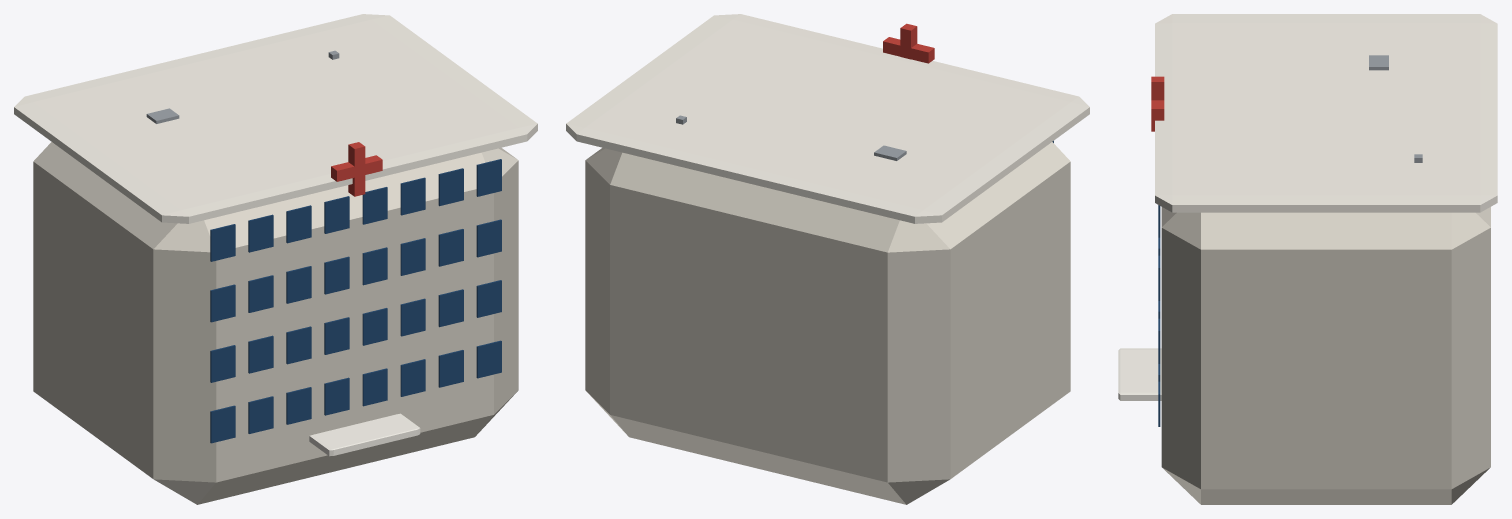
Rendered from hospital.glb.
The picture shows the model from 3 angles, left to right: view 1: azimuth 30°, elevation 25°; view 2: azimuth 150°, elevation 25°; view 3: azimuth 270°, elevation 25°; orthographic projection. The views are drawn at different scales.
Visible parts, largest first — view 1: walls, cornice, canopy, win.002, win.004, win.014, win.017, win.020, win.021, win.023, win.024, win.027 (+25 smaller); view 2: walls, cornice, crossh; view 3: walls, cornice, canopy.
Boxes of the visible parts, x1,y1,x2,y2 form: walls: [33, 142, 518, 504]; cornice: [14, 14, 537, 223]; canopy: [309, 413, 420, 456]; win.002: [286, 387, 311, 424]; win.004: [362, 368, 387, 406]; win.014: [438, 289, 463, 327]; win.017: [248, 275, 273, 312]; win.020: [362, 247, 387, 285]; win.021: [400, 238, 425, 275]; win.023: [476, 219, 501, 257]; win.024: [210, 224, 235, 261]; win.027: [324, 196, 349, 233]; walls: [585, 142, 1070, 504]; cornice: [566, 14, 1089, 223]; crossh: [883, 37, 934, 63]; walls: [1161, 207, 1490, 504]; cornice: [1155, 14, 1497, 212]; canopy: [1118, 348, 1161, 400].
Bounding box in the file's own units: 24.7 × 21.4 × 20.7.
